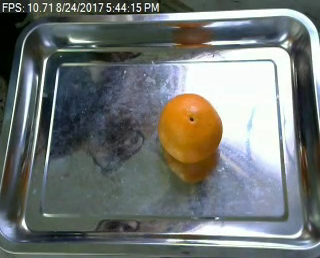Orange: (156, 91, 224, 163)
